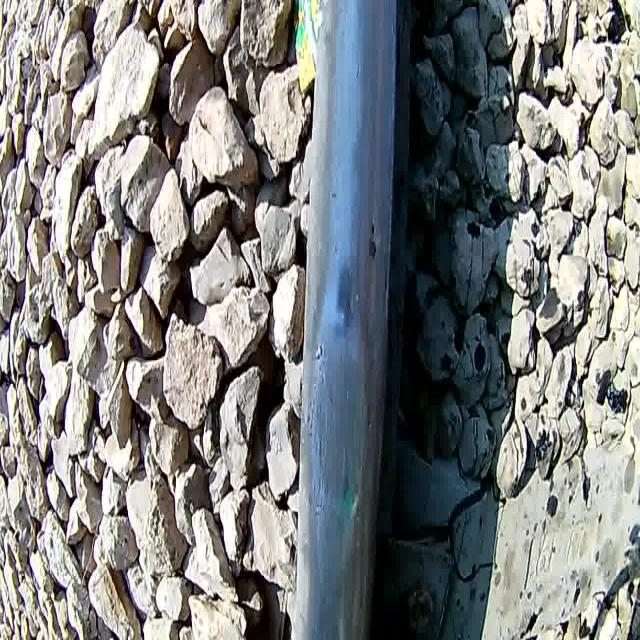Spallings: (344, 4, 400, 640)
Squats: (313, 344, 370, 504), (327, 253, 359, 343)
